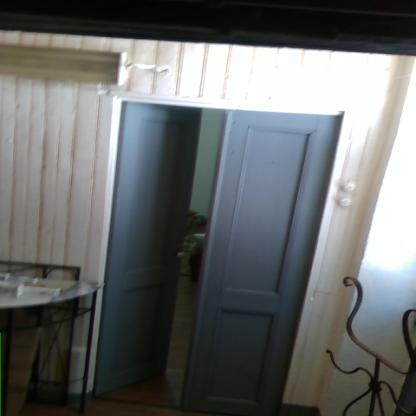semi: (93, 72, 353, 414)
